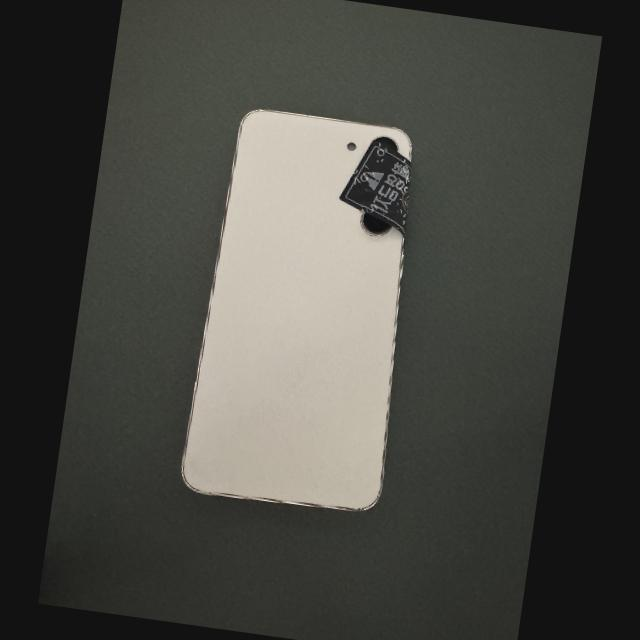lens: (360, 212, 392, 235), (371, 137, 397, 152)
phone: (182, 110, 412, 510)
sticker: (339, 142, 411, 240)
